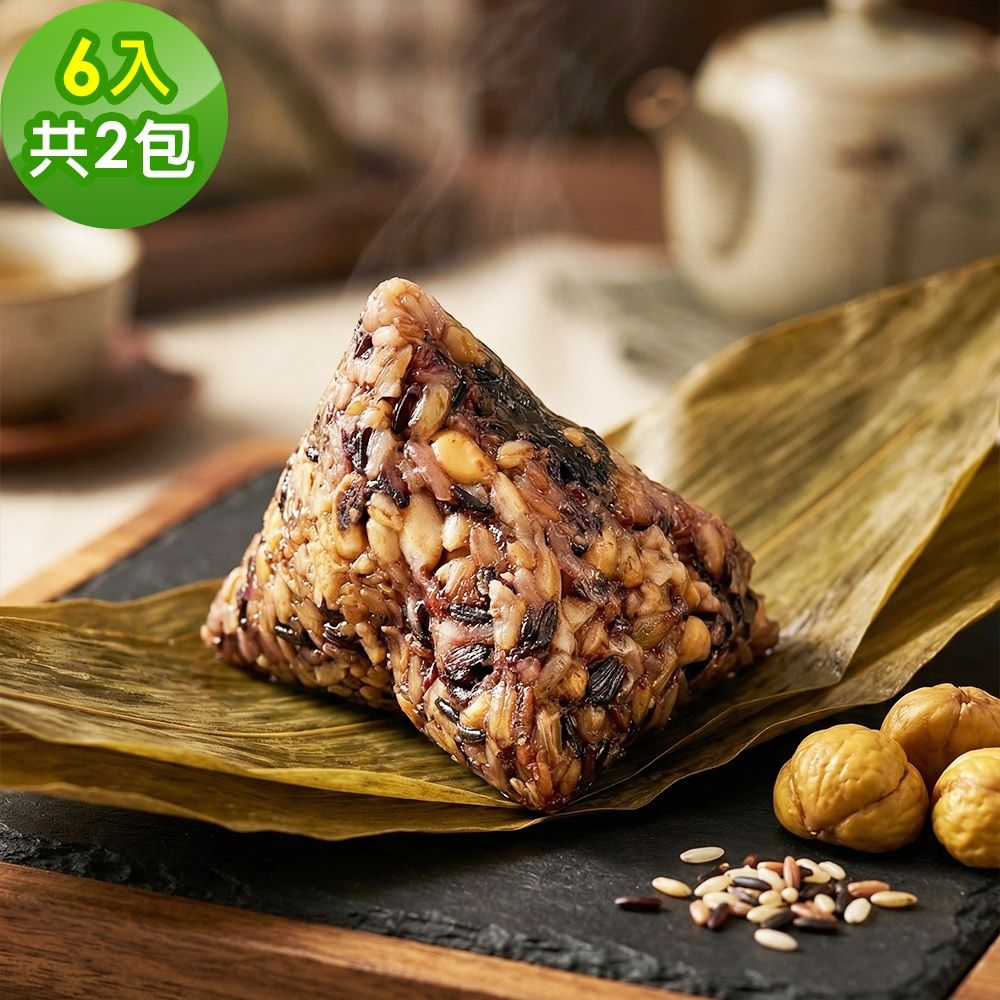zongzi: (203, 278, 777, 809)
